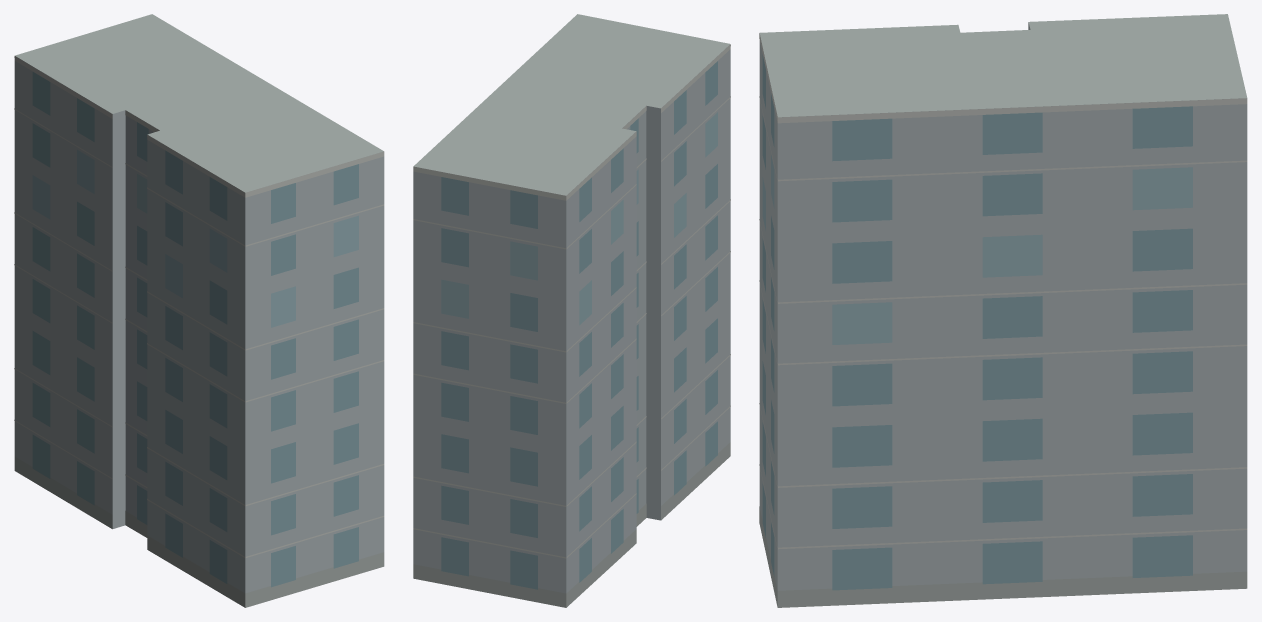
Rendered from survey-upis-32991181.glb.
The picture shows the model from 3 angles, left to right: view 1: azimuth 30°, elevation 25°; view 2: azimuth 150°, elevation 25°; view 3: azimuth 270°, elevation 25°; orthographic projection. The views are drawn at different scales.
Visible parts, largest first — view 1: survey-upis-32991181.tmp; view 2: survey-upis-32991181.tmp; view 3: survey-upis-32991181.tmp.
Part boxes in pixels (left/top/right/bottom): survey-upis-32991181.tmp: left=14, top=14, right=384, bottom=607; survey-upis-32991181.tmp: left=413, top=14, right=730, bottom=607; survey-upis-32991181.tmp: left=759, top=14, right=1247, bottom=607.
Size of the model in its own units: 9.01 by 19.9 by 17.96.
